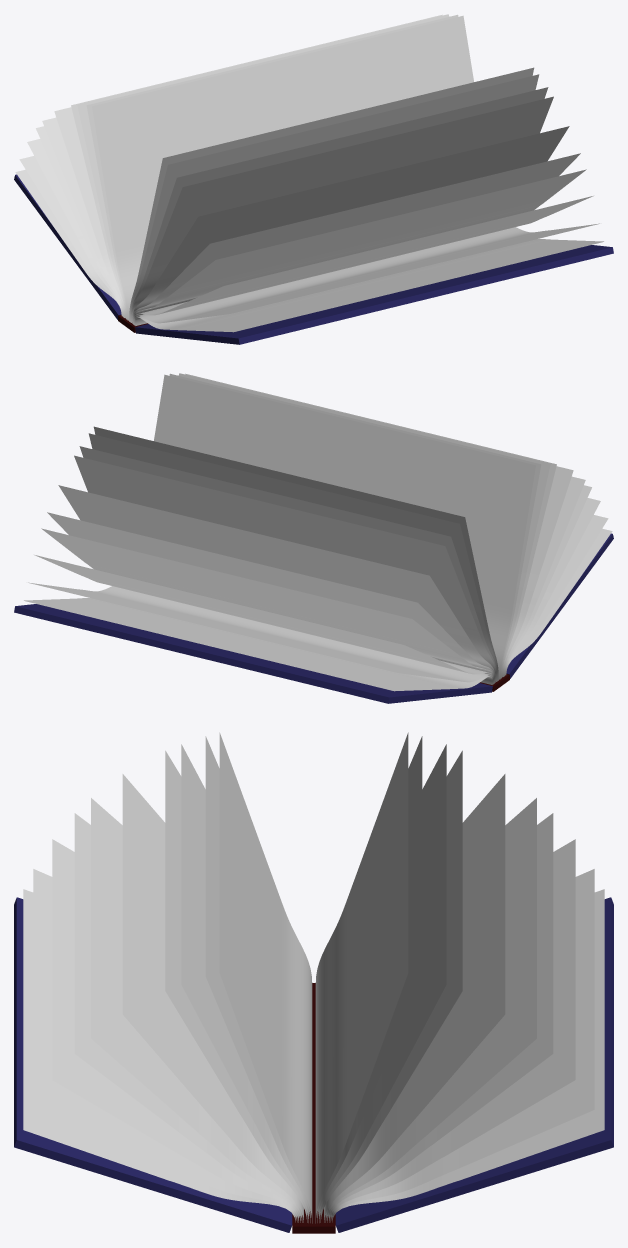
The model's file is BookR.glb.
3 views of the same model, one above another, from view 1: azimuth 30°, elevation 25°; view 2: azimuth 150°, elevation 25°; view 3: azimuth 270°, elevation 25° (orthographic). The views are drawn at different scales.
Parts seen in each view (by area): view 1: p.010, p.007, p.005, p.003, p.004, p, p.009, p.001, p.008, p.002, coverL, coverR; view 2: p.010, p.007, p.005, p.003, p.004, p, p.009, p.001, p.008, p.002, coverR, coverL; view 3: p.010, p.005, p.004, p.002, p.001, p.008, p.003, p.007, p, p.009, coverL, coverR (+1 smaller).
Boxes of the visible parts, bbox=[...] form: p.010: bbox=[92, 15, 534, 321]; p.007: bbox=[71, 14, 553, 322]; p.005: bbox=[54, 107, 569, 323]; p.003: bbox=[36, 126, 586, 324]; p.004: bbox=[42, 117, 580, 323]; p: bbox=[15, 169, 603, 332]; p.009: bbox=[86, 14, 539, 321]; p.001: bbox=[19, 156, 599, 325]; p.008: bbox=[77, 14, 548, 322]; p.002: bbox=[27, 139, 593, 325]; coverL: bbox=[135, 245, 613, 344]; coverR: bbox=[14, 174, 121, 319]; p.010: bbox=[93, 374, 535, 680]; p.007: bbox=[74, 373, 556, 681]; p.005: bbox=[58, 466, 573, 682]; p.003: bbox=[41, 485, 591, 683]; p.004: bbox=[47, 476, 585, 682]; p: bbox=[24, 528, 612, 691]; p.009: bbox=[88, 373, 541, 680]; p.001: bbox=[28, 515, 608, 684]; p.008: bbox=[79, 373, 550, 681]; p.002: bbox=[34, 498, 600, 684]; coverR: bbox=[14, 604, 492, 703]; coverL: bbox=[506, 533, 613, 678]; p.010: bbox=[219, 732, 408, 1223]; p.005: bbox=[122, 774, 505, 1222]; p.004: bbox=[91, 798, 536, 1222]; p.002: bbox=[52, 839, 575, 1222]; p.001: bbox=[33, 869, 594, 1222]; p.008: bbox=[181, 744, 446, 1222]; p.003: bbox=[74, 813, 553, 1222]; p.007: bbox=[165, 750, 462, 1222]; p: bbox=[23, 889, 604, 1222]; p.009: bbox=[205, 736, 422, 1222]; coverL: bbox=[14, 897, 292, 1232]; coverR: bbox=[335, 897, 613, 1232].
Size of the model in its own units: 5.31 by 2.62 by 5.5.
